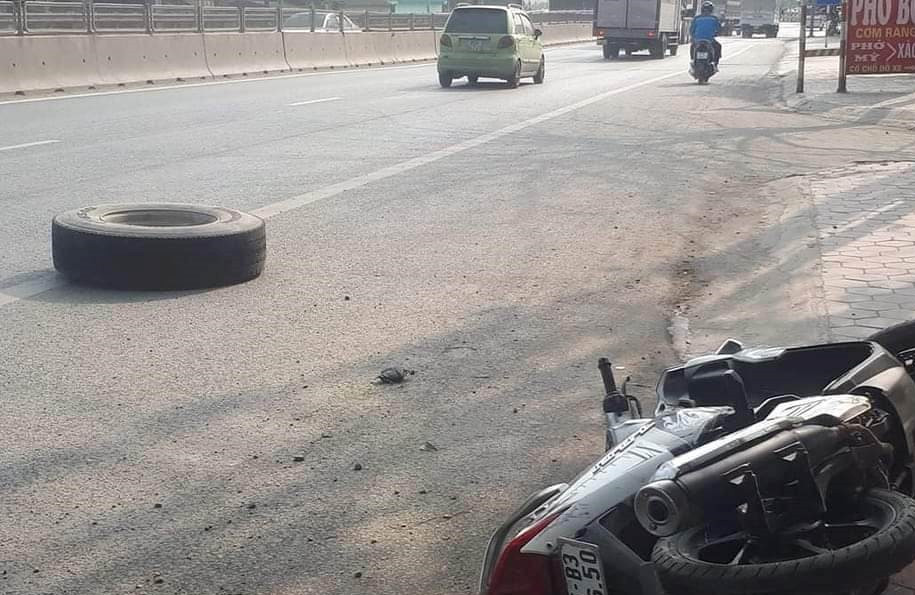ROAD_OBSTACLE: (52, 345, 265, 488)
